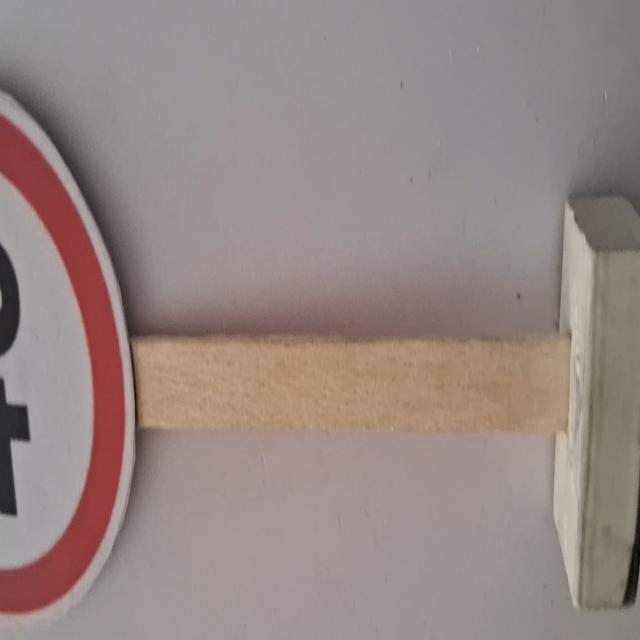Speed40: (0, 64, 135, 634)
